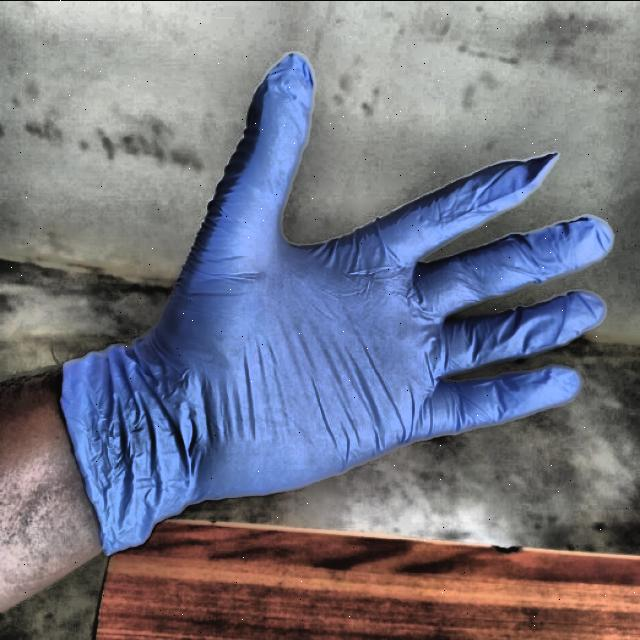gloved: (57, 47, 617, 563)
